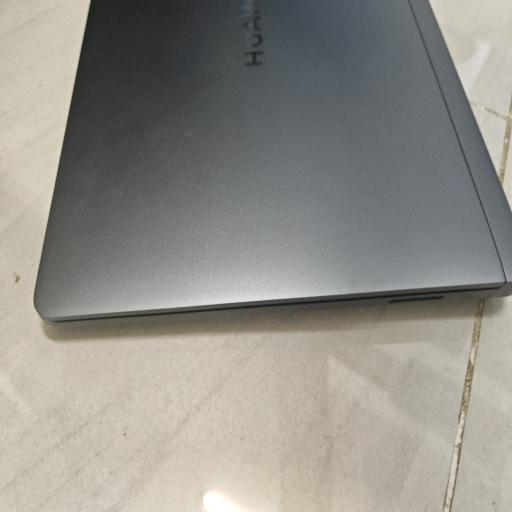laptop: (34, 0, 511, 320)
